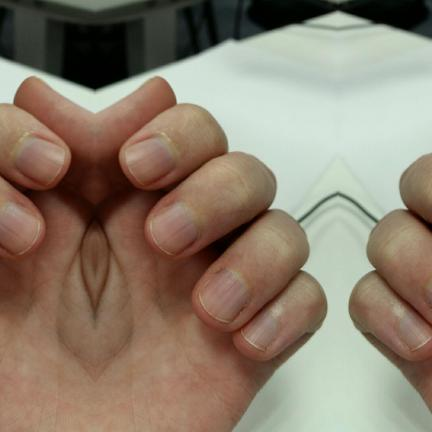Nail: (198, 269, 249, 324), (124, 137, 177, 186), (148, 203, 197, 256), (11, 137, 64, 186), (0, 203, 40, 256), (239, 310, 278, 351), (396, 310, 432, 351), (425, 281, 432, 309)
